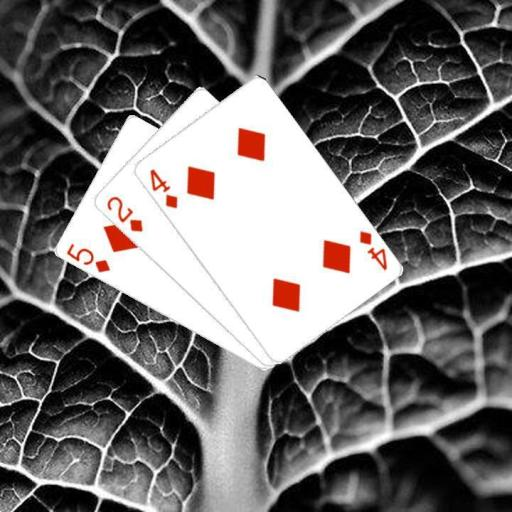card-corner: (62, 240, 112, 274), (103, 193, 144, 234), (356, 226, 389, 272), (146, 166, 179, 210)
